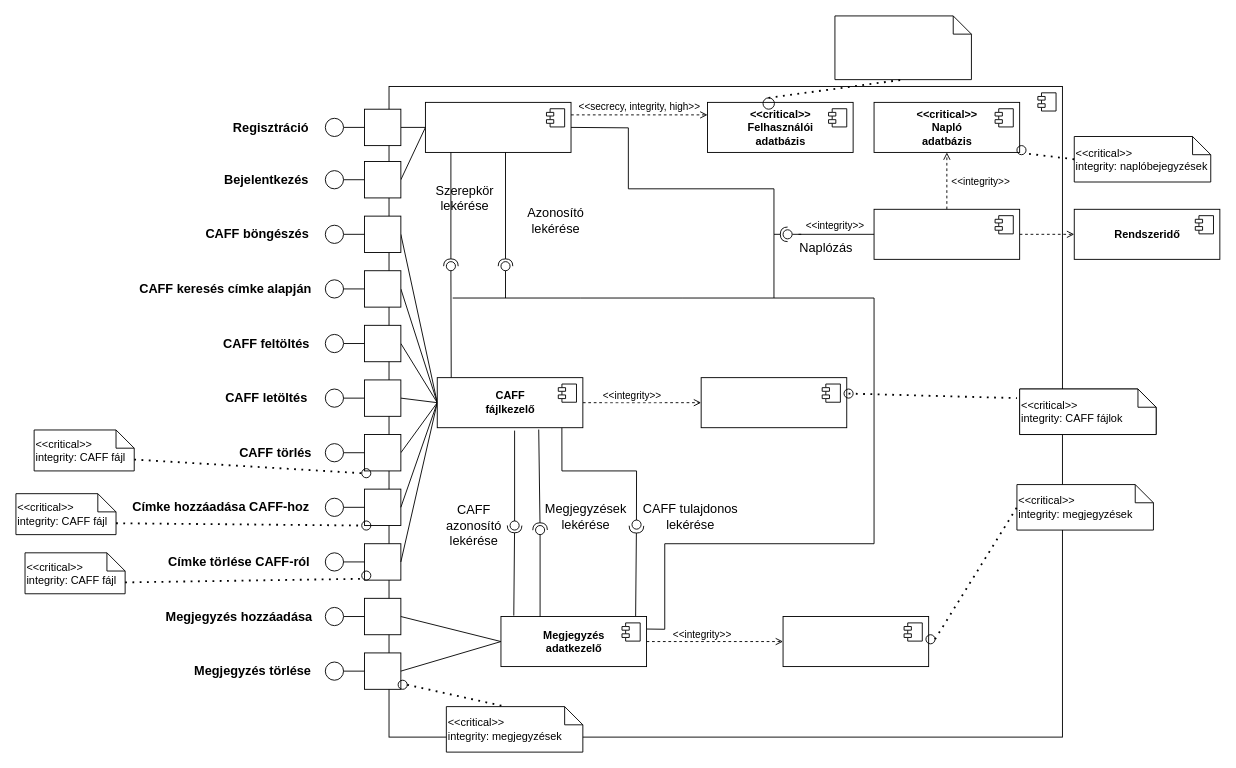
Image size: 1236x768. Some labels were removed from this diagram. The centre of each missing label's shape, as x and y in pixels:
<<critical>> CAFF adatbázis: (773,402)
<<critical>> Megjegyzés adatbázis: (855,641)
<<critical>> secrecy: jelszó integrity: szerepkör, jelszó high: személyes adatok: (902,47)
Felhasználói adatkezelő: (498,126)
Napló adatkezelő: (946,233)
